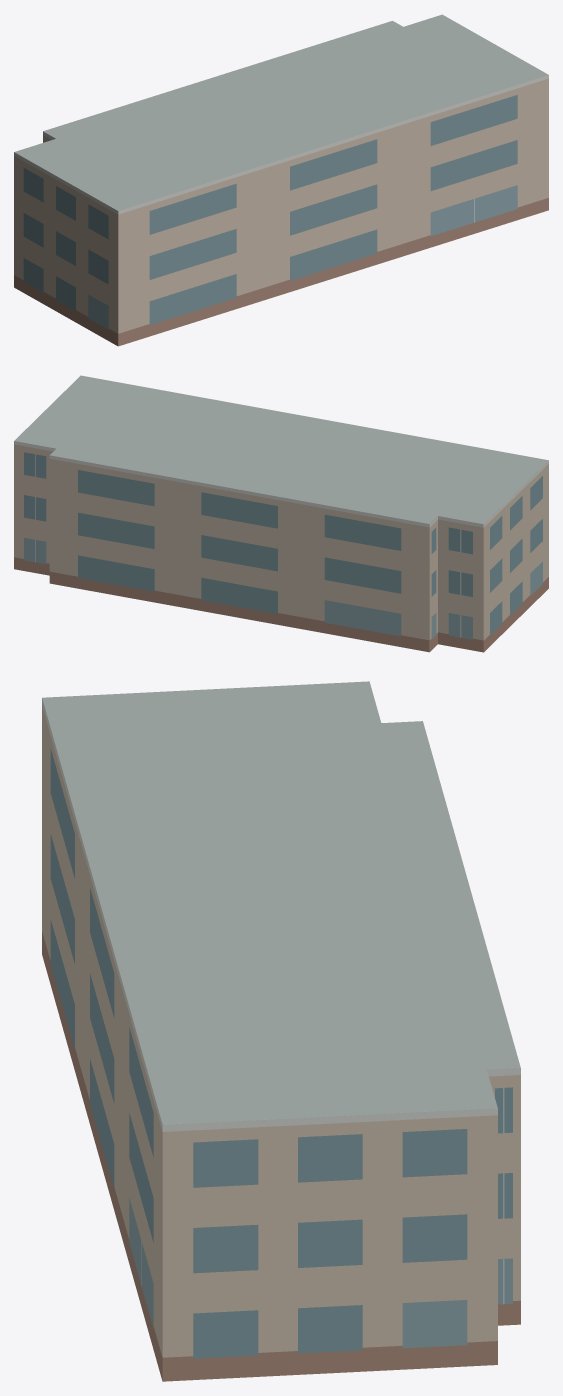
File: survey-upis-32836600.glb
The picture shows the model from 3 angles, top to bottom: view 1: azimuth 30°, elevation 25°; view 2: azimuth 150°, elevation 25°; view 3: azimuth 270°, elevation 25°; orthographic projection. The views are drawn at different scales.
Parts seen in each view (by area): view 1: survey-upis-32836600.tmp; view 2: survey-upis-32836600.tmp; view 3: survey-upis-32836600.tmp.
Part boxes in pixels (bbox=[...]): survey-upis-32836600.tmp: bbox=[14, 14, 548, 346]; survey-upis-32836600.tmp: bbox=[14, 375, 548, 652]; survey-upis-32836600.tmp: bbox=[42, 681, 520, 1381].
Size of the model in its own units: 33.97 by 9.15 by 15.5.
